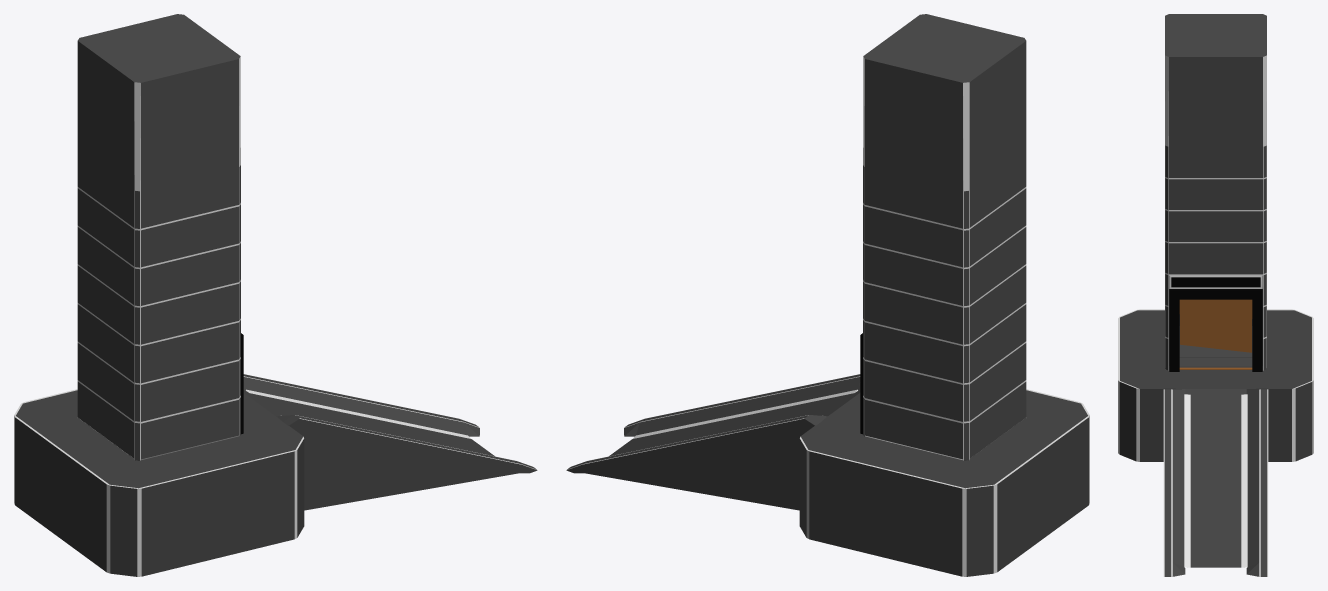
Rendered from exit.dae.
3 renders of one model, left to right at view 1: azimuth 30°, elevation 25°; view 2: azimuth 150°, elevation 25°; view 3: azimuth 270°, elevation 25°, orthographic. The views are drawn at different scales.
Parts seen in each view (by area): view 1: EXIT.003, EXIT.002; view 2: EXIT.003, EXIT.002; view 3: EXIT.002, EXIT.003, EXIT.001, EXIT.006, EXIT.008.
Boxes of the visible parts, x1,y1,x2,y2 form: EXIT.003: [77, 14, 240, 460]; EXIT.002: [14, 374, 537, 576]; EXIT.003: [863, 14, 1026, 460]; EXIT.002: [566, 374, 1089, 576]; EXIT.002: [1118, 309, 1313, 576]; EXIT.003: [1165, 14, 1266, 370]; EXIT.001: [1169, 275, 1262, 371]; EXIT.006: [1179, 299, 1252, 352]; EXIT.008: [1179, 357, 1252, 366].
Bounding box in the file's own units: 58.61 × 26.89 × 60.89.
